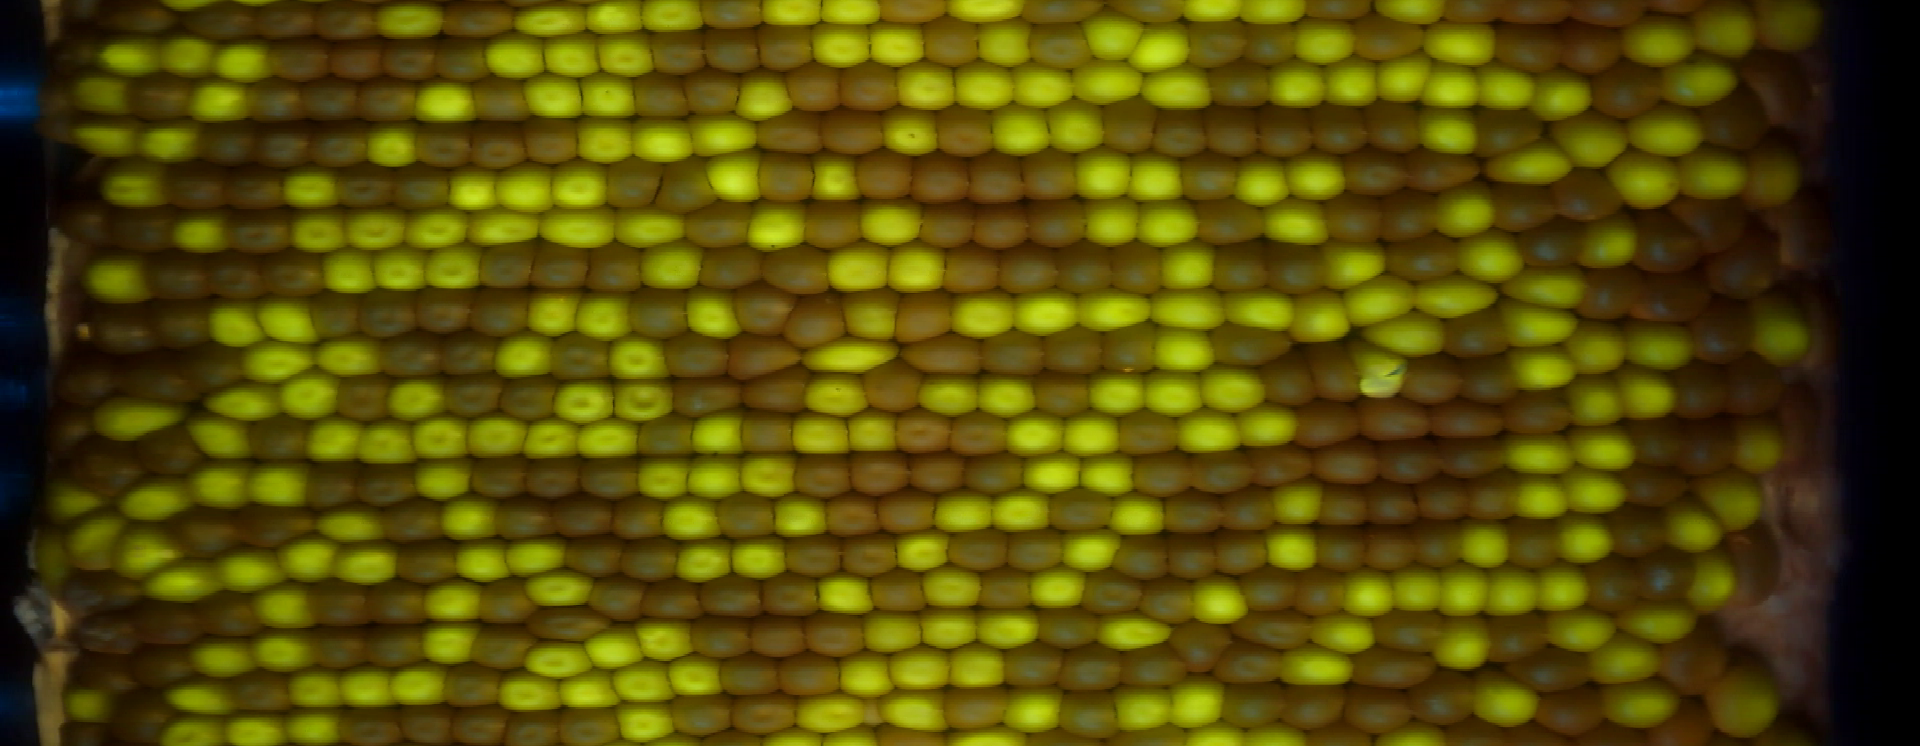fluorescent: (1701, 668, 1783, 745), (1602, 145, 1687, 218), (1588, 674, 1693, 733), (1548, 109, 1640, 176), (1696, 463, 1774, 540), (1742, 127, 1804, 224), (1624, 99, 1714, 164), (93, 154, 191, 214), (87, 392, 196, 445), (1659, 53, 1746, 118), (1674, 142, 1749, 216), (1451, 223, 1538, 284), (1744, 295, 1817, 367), (1622, 318, 1709, 377), (1364, 307, 1461, 359), (77, 250, 157, 312), (1013, 281, 1084, 350), (1040, 94, 1114, 160), (1659, 488, 1728, 559), (1063, 143, 1141, 205), (1123, 138, 1189, 209), (1689, 1, 1760, 67), (1487, 138, 1582, 187), (1133, 192, 1206, 255), (599, 375, 686, 428), (531, 202, 622, 252), (853, 194, 931, 252), (1202, 358, 1271, 424), (606, 200, 692, 252), (1417, 272, 1502, 325), (1003, 58, 1082, 114), (1424, 13, 1499, 73), (1071, 282, 1156, 334), (1217, 287, 1302, 339), (1561, 461, 1631, 524), (1501, 300, 1589, 350), (634, 235, 707, 296), (822, 236, 894, 298), (973, 369, 1059, 420), (250, 290, 324, 349), (168, 200, 236, 263), (1347, 341, 1416, 404), (571, 284, 640, 347), (676, 283, 747, 344), (882, 235, 953, 296), (181, 73, 258, 130), (861, 13, 933, 73), (796, 334, 906, 374), (238, 339, 323, 390), (111, 519, 186, 577), (182, 412, 262, 465), (1073, 54, 1149, 110), (1501, 423, 1577, 479), (1611, 364, 1682, 424), (131, 114, 208, 169), (891, 58, 969, 113), (1316, 238, 1393, 293), (1469, 674, 1547, 729), (1586, 630, 1664, 684), (1472, 55, 1538, 119), (1567, 317, 1631, 383), (1544, 604, 1624, 657), (1078, 5, 1147, 65), (1531, 65, 1600, 125), (947, 289, 1022, 344), (1614, 600, 1706, 646), (1429, 625, 1513, 674), (1287, 288, 1354, 349), (1621, 13, 1696, 69), (59, 519, 129, 578), (1138, 62, 1217, 114), (202, 293, 273, 350), (1054, 522, 1127, 578), (546, 154, 611, 217), (879, 99, 944, 162), (1229, 149, 1292, 214), (1284, 145, 1349, 207), (1431, 559, 1494, 624), (1504, 265, 1593, 310), (514, 414, 588, 469), (1160, 673, 1233, 728), (1559, 374, 1632, 429), (702, 145, 769, 205), (358, 114, 426, 173), (408, 73, 482, 127), (1172, 408, 1247, 462), (1276, 643, 1358, 692), (207, 29, 277, 87), (731, 65, 801, 122), (988, 100, 1059, 157), (66, 118, 152, 164), (1340, 281, 1423, 328), (1502, 344, 1586, 392), (804, 142, 866, 207), (211, 545, 288, 597), (1337, 563, 1404, 622), (151, 29, 219, 87), (744, 197, 813, 255), (1258, 198, 1336, 249), (807, 17, 877, 73), (1128, 17, 1198, 73), (929, 483, 1000, 538), (478, 28, 553, 80), (1529, 557, 1593, 619), (1577, 213, 1641, 274), (949, 59, 1014, 119), (1087, 363, 1152, 423), (1684, 559, 1744, 624), (493, 160, 560, 219), (1187, 570, 1253, 628), (1509, 469, 1576, 527), (1760, 2, 1833, 55), (519, 70, 589, 125), (984, 488, 1059, 539), (836, 284, 899, 345), (1483, 559, 1547, 619), (1727, 412, 1787, 475), (1308, 608, 1384, 658), (302, 412, 369, 469), (273, 537, 339, 594), (971, 603, 1043, 655), (683, 109, 763, 157), (463, 205, 546, 250), (462, 408, 531, 462), (591, 29, 661, 83), (534, 32, 609, 82), (520, 563, 602, 609), (573, 70, 642, 124), (787, 407, 856, 461), (283, 205, 353, 257), (602, 332, 673, 383), (69, 69, 140, 120), (572, 412, 643, 463), (662, 649, 729, 704), (311, 505, 391, 550), (318, 245, 388, 296), (318, 333, 388, 385), (116, 481, 200, 524), (1093, 610, 1177, 653), (632, 615, 703, 665), (523, 635, 594, 685), (1107, 682, 1178, 733), (511, 2, 591, 47), (187, 463, 253, 517), (787, 690, 866, 735), (729, 532, 796, 584), (339, 205, 411, 254), (186, 633, 258, 682), (1319, 51, 1378, 111), (1156, 287, 1229, 334), (354, 416, 419, 470), (1153, 325, 1218, 379), (549, 379, 620, 428), (242, 463, 313, 512), (809, 570, 880, 619), (411, 412, 471, 469), (1161, 236, 1222, 293), (98, 32, 167, 82), (573, 115, 642, 165), (804, 370, 873, 420), (249, 632, 324, 677), (916, 369, 980, 423), (1291, 15, 1354, 69), (1002, 684, 1071, 733), (1417, 110, 1487, 159), (612, 657, 677, 709), (39, 475, 116, 519), (582, 624, 648, 675), (369, 245, 436, 295), (891, 642, 953, 697), (278, 162, 340, 216), (403, 205, 471, 254), (1108, 490, 1172, 543), (861, 608, 926, 659), (1264, 58, 1329, 109), (491, 330, 557, 380), (1373, 49, 1431, 105), (1149, 367, 1209, 423), (1084, 197, 1144, 252), (1026, 563, 1093, 612), (740, 450, 802, 502), (1456, 510, 1509, 572), (251, 587, 320, 635), (876, 691, 951, 734), (1386, 562, 1444, 619), (688, 405, 747, 461), (1062, 410, 1128, 459), (1267, 523, 1326, 578), (527, 287, 587, 341), (842, 404, 902, 458), (383, 377, 452, 424), (1016, 454, 1089, 499), (418, 579, 482, 628), (1078, 453, 1147, 499), (634, 113, 694, 165), (662, 500, 729, 548), (891, 529, 958, 577), (1238, 404, 1304, 452), (552, 673, 626, 715), (682, 452, 744, 502), (440, 499, 507, 545), (916, 562, 983, 609), (333, 544, 404, 588), (497, 668, 561, 717), (146, 563, 220, 605), (506, 534, 574, 579), (1002, 413, 1067, 461), (1267, 477, 1332, 524), (1416, 67, 1483, 113), (444, 163, 502, 216), (387, 665, 453, 710), (408, 461, 478, 503), (671, 543, 741, 586), (632, 454, 694, 502), (913, 610, 981, 654), (1553, 518, 1618, 563), (333, 670, 402, 713), (836, 650, 898, 698), (280, 665, 344, 710), (164, 677, 238, 717), (768, 497, 834, 540), (377, 1, 447, 42), (419, 624, 478, 668), (453, 544, 513, 587), (1371, 4, 1460, 32), (637, 1, 709, 36), (1236, 1, 1313, 32), (618, 703, 678, 742), (948, 1, 1029, 29), (580, 1, 647, 36), (39, 537, 77, 594), (222, 713, 287, 746), (159, 713, 223, 744), (756, 2, 827, 29), (283, 713, 340, 746), (62, 688, 118, 723), (1184, 1, 1244, 29)
nonfluorescent: (1724, 524, 1783, 612), (159, 510, 249, 567), (1751, 53, 1817, 130), (1673, 187, 1751, 252), (67, 601, 152, 660), (1658, 628, 1728, 699), (1351, 639, 1444, 692), (1709, 234, 1780, 303), (1547, 169, 1633, 224), (1509, 646, 1602, 697), (724, 279, 797, 344), (1769, 197, 1827, 279), (1469, 104, 1549, 163), (1309, 334, 1371, 409), (964, 147, 1037, 209), (1162, 614, 1236, 676), (829, 60, 909, 118), (78, 435, 144, 503), (1102, 89, 1167, 159), (1588, 60, 1660, 122), (751, 149, 829, 207), (759, 239, 839, 295), (1529, 681, 1609, 737), (1307, 97, 1373, 164), (1637, 216, 1704, 282), (1291, 562, 1357, 630), (1704, 88, 1769, 157), (648, 159, 721, 218), (1641, 267, 1717, 323), (1671, 410, 1733, 480), (1018, 145, 1089, 205), (1036, 323, 1107, 383), (366, 575, 444, 628), (1398, 350, 1466, 413), (1363, 98, 1431, 159), (1189, 195, 1269, 247), (692, 572, 771, 625), (932, 104, 1002, 164), (1024, 195, 1093, 255), (302, 578, 378, 633), (111, 684, 187, 739), (467, 619, 538, 677), (1342, 148, 1419, 202), (1431, 399, 1516, 448), (801, 194, 864, 258), (1049, 484, 1124, 539), (759, 570, 834, 625), (1367, 609, 1455, 655), (1357, 399, 1442, 447), (353, 73, 429, 127), (1506, 394, 1596, 440), (354, 285, 421, 345), (901, 337, 996, 380), (1234, 559, 1302, 619), (1288, 401, 1367, 452), (582, 245, 656, 299), (1138, 579, 1212, 633), (744, 604, 814, 661), (678, 202, 758, 252), (1376, 435, 1449, 490), (1631, 552, 1703, 608), (1340, 680, 1412, 735), (721, 334, 804, 382), (1322, 189, 1384, 254), (1103, 243, 1169, 303), (1729, 356, 1789, 423), (888, 407, 961, 461), (355, 622, 429, 676), (1004, 639, 1078, 693), (1118, 639, 1193, 692), (907, 153, 977, 209), (140, 425, 209, 481), (1056, 685, 1125, 741), (1149, 105, 1211, 168), (1202, 104, 1266, 165), (820, 104, 888, 162), (980, 330, 1057, 380), (683, 614, 760, 664), (715, 650, 792, 701), (742, 367, 812, 423), (752, 107, 827, 158), (238, 505, 316, 554), (1256, 99, 1318, 162), (414, 282, 478, 342), (1578, 557, 1642, 617), (1502, 514, 1567, 573), (1176, 20, 1251, 70), (66, 648, 142, 698), (782, 60, 849, 118), (1056, 643, 1128, 696), (433, 2, 527, 43), (1354, 9, 1424, 62), (948, 526, 1018, 579), (518, 110, 579, 171), (913, 198, 976, 258), (971, 197, 1033, 257), (1409, 668, 1469, 730), (1384, 234, 1462, 282), (787, 293, 846, 356), (1442, 307, 1513, 360), (391, 539, 462, 592), (1266, 243, 1338, 294), (636, 576, 708, 627), (681, 65, 749, 119), (1223, 611, 1318, 650), (1467, 474, 1529, 533), (1379, 185, 1442, 243), (474, 238, 538, 295), (468, 287, 531, 344), (1209, 55, 1273, 111), (631, 67, 696, 124), (528, 238, 593, 294), (696, 243, 767, 294), (661, 328, 732, 380), (1157, 488, 1228, 539), (1281, 681, 1352, 733), (1180, 147, 1247, 202), (1520, 217, 1586, 272), (298, 289, 364, 344), (1608, 508, 1674, 563), (267, 34, 339, 85), (716, 492, 789, 543), (1212, 328, 1299, 370), (729, 691, 811, 735), (518, 608, 620, 643), (552, 330, 612, 390), (413, 119, 474, 178), (1217, 243, 1276, 304), (669, 375, 742, 424), (1220, 685, 1293, 734), (894, 289, 956, 347), (222, 208, 291, 260), (1127, 452, 1196, 503), (1480, 612, 1550, 664), (775, 649, 845, 701), (1457, 352, 1521, 408), (1188, 443, 1251, 500), (800, 611, 871, 661), (1493, 180, 1559, 234), (823, 489, 889, 543), (186, 122, 262, 169), (464, 114, 524, 173), (1584, 265, 1643, 325), (778, 533, 846, 584), (136, 597, 204, 648), (1054, 243, 1116, 300), (1211, 527, 1273, 583), (196, 588, 258, 644), (939, 682, 1013, 730), (1114, 408, 1184, 458), (1311, 439, 1381, 489), (1079, 572, 1149, 622), (54, 200, 119, 254), (136, 73, 201, 127), (632, 287, 697, 341), (1412, 143, 1489, 189), (1033, 606, 1108, 653), (502, 367, 562, 425), (260, 249, 328, 299), (306, 119, 369, 174), (601, 157, 664, 212), (1004, 524, 1067, 579), (587, 570, 649, 625), (83, 314, 159, 359), (1436, 439, 1512, 484), (1678, 364, 1731, 428), (666, 688, 736, 737), (1098, 327, 1163, 380), (1215, 639, 1286, 687), (441, 664, 508, 714), (334, 374, 396, 429), (389, 162, 453, 214), (249, 77, 313, 129), (1244, 442, 1314, 490), (856, 154, 922, 205), (872, 485, 938, 535), (1702, 310, 1760, 367), (863, 360, 921, 418), (1311, 519, 1368, 578), (1362, 522, 1420, 578), (153, 305, 213, 360), (383, 334, 451, 383), (462, 459, 529, 508), (1162, 533, 1223, 587), (853, 452, 917, 503), (1109, 537, 1174, 587), (97, 1, 182, 39), (842, 529, 899, 587), (948, 409, 1014, 458), (868, 570, 934, 619), (302, 73, 362, 127), (323, 33, 387, 83), (1033, 20, 1097, 70), (1558, 23, 1621, 73), (442, 330, 507, 379), (522, 454, 587, 503), (478, 575, 536, 628), (442, 701, 512, 746), (163, 169, 229, 217), (427, 36, 489, 87), (618, 538, 680, 589), (1411, 477, 1473, 527), (234, 671, 302, 717), (560, 701, 628, 746), (253, 122, 311, 176), (305, 624, 370, 671), (252, 413, 311, 465), (448, 372, 507, 425), (501, 499, 561, 550), (999, 244, 1060, 294), (942, 243, 1003, 293), (203, 254, 266, 303), (189, 1, 260, 44), (758, 24, 822, 72), (647, 29, 704, 82), (738, 407, 796, 459), (922, 13, 981, 65), (1496, 27, 1561, 73), (129, 364, 193, 410), (336, 704, 408, 746), (1269, 356, 1322, 412), (443, 1, 514, 43), (469, 73, 529, 122), (609, 494, 669, 543), (1213, 488, 1280, 532), (636, 413, 692, 464), (700, 23, 758, 73), (304, 463, 361, 513), (1412, 524, 1469, 575), (47, 408, 96, 467), (1644, 709, 1723, 746), (1316, 481, 1376, 529), (1362, 485, 1427, 529), (583, 461, 644, 507), (187, 343, 242, 394), (500, 706, 569, 746), (1242, 22, 1300, 70), (793, 459, 857, 503), (563, 535, 627, 579), (553, 497, 621, 539), (358, 462, 418, 508), (380, 36, 436, 85), (149, 260, 207, 307), (73, 575, 146, 612), (337, 163, 396, 209), (391, 497, 443, 549), (962, 457, 1027, 499), (223, 169, 289, 209), (907, 457, 973, 497), (318, 1, 382, 43), (394, 701, 452, 746), (133, 643, 197, 684), (114, 213, 176, 254), (260, 1, 317, 44), (1037, 375, 1093, 418), (1624, 469, 1684, 508), (1624, 423, 1678, 464), (66, 367, 121, 408), (53, 39, 118, 72), (876, 4, 959, 27), (698, 2, 769, 28)
